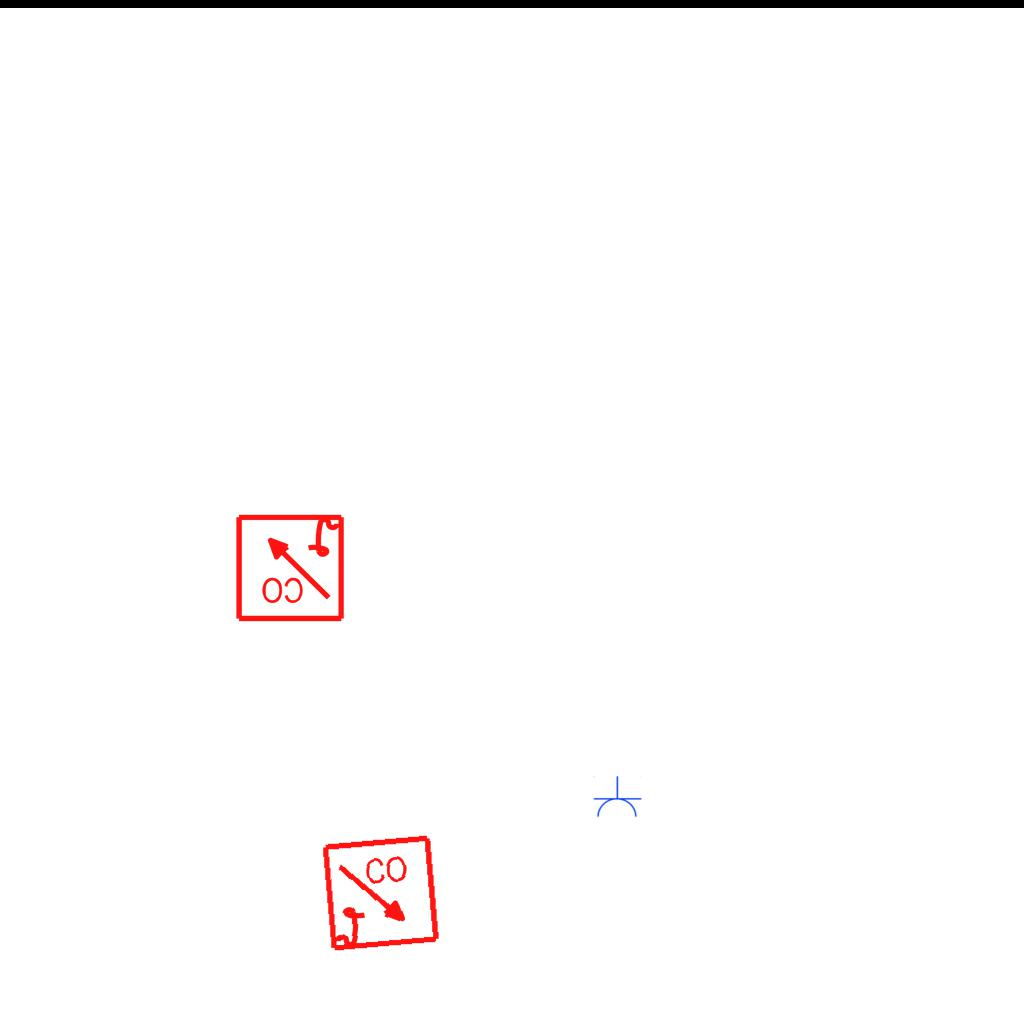ROA_Rauchmelder_optisch_mit_Signalgeber_(Sockelsirene): (320, 833, 443, 956), (233, 510, 346, 623)
Schukosteckdose_einfach: (592, 776, 642, 819)
